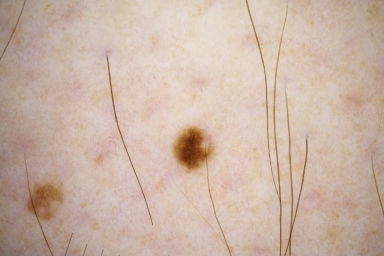nevus: (174, 127, 213, 167), (31, 181, 62, 221)
